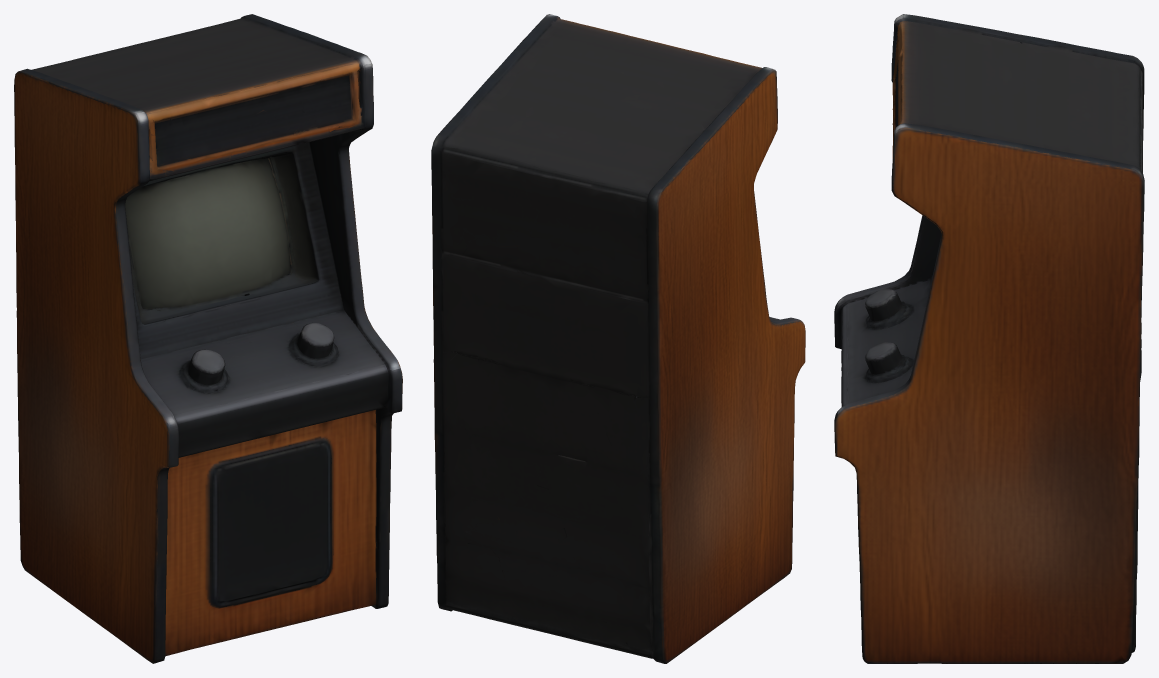
The model's file is 01_arcade_01_upright_woodgrain.glb.
3 views of the same model, side by side, from view 1: azimuth 30°, elevation 25°; view 2: azimuth 150°, elevation 25°; view 3: azimuth 270°, elevation 25° (orthographic). The views are drawn at different scales.
Parts seen in each view (by area): view 1: world; view 2: world; view 3: world.
Boxes of the visible parts, bbox=[...] form: world: bbox=[14, 14, 402, 663]; world: bbox=[431, 14, 805, 663]; world: bbox=[834, 14, 1144, 663].
Size of the model in its own units: 0.4596 by 1 by 0.5266.
Materials: 1 (1 with a texture image).
